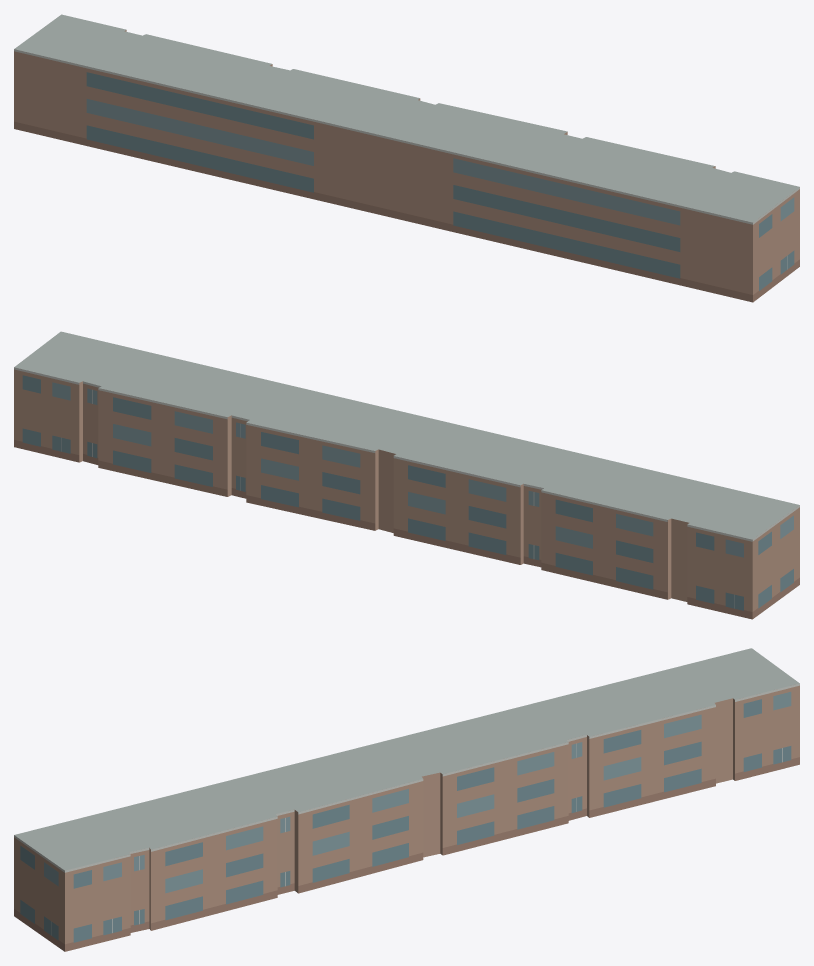
File: survey-upis-32627499.glb
3 renders of one model, top to bottom at view 1: azimuth 30°, elevation 25°; view 2: azimuth 210°, elevation 25°; view 3: azimuth 270°, elevation 25°, orthographic.
Visible parts, largest first — view 1: survey-upis-32627499.tmp; view 2: survey-upis-32627499.tmp; view 3: survey-upis-32627499.tmp.
Part boxes in pixels (<box>): survey-upis-32627499.tmp: <box>14,14,799,302</box>; survey-upis-32627499.tmp: <box>14,331,799,619</box>; survey-upis-32627499.tmp: <box>14,648,799,951</box>.
Size of the model in its own units: 53.79 by 9.15 by 80.27.
